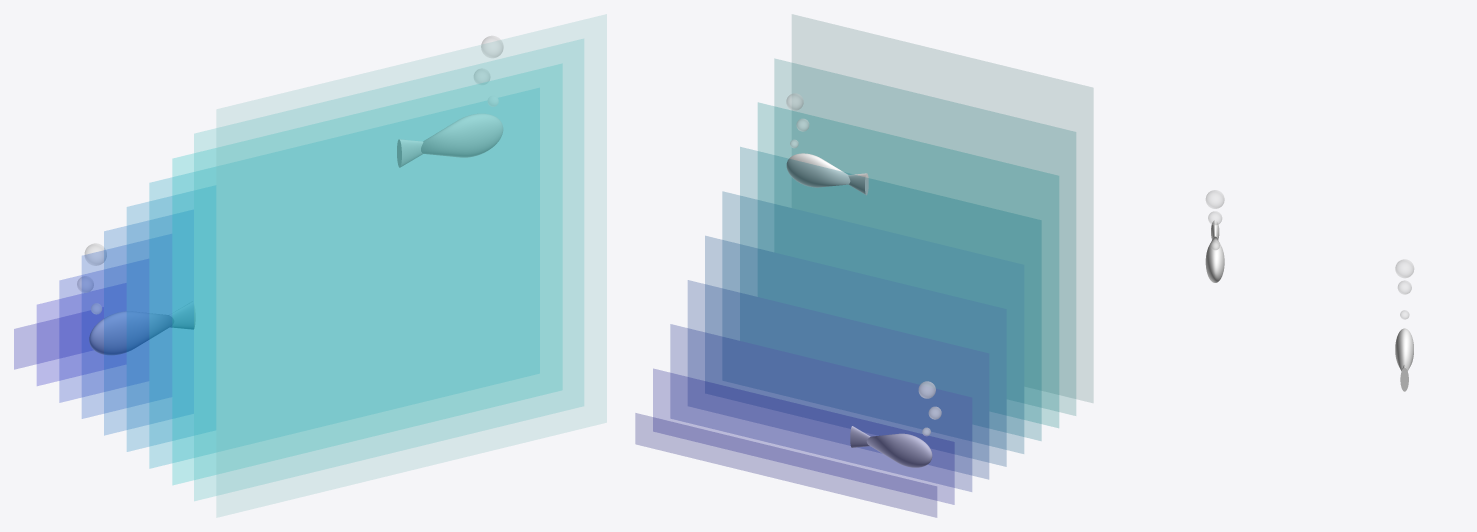
Rendered from asset.glb.
3 renders of one model, left to right at view 1: azimuth 30°, elevation 25°; view 2: azimuth 150°, elevation 25°; view 3: azimuth 270°, elevation 25°, orthographic. The views are drawn at different scales.
Visible parts, largest first — view 1: 平面 2, 平面 3, 平面 4, 平面 5, 平面 6, 平面 7, 平面 8, 平面 9, ドロップ (×2), 平面 10, 平面 11; view 2: 平面 2, 平面 3, 平面 5, 平面 4, 平面 6, 平面 7, 平面 8, 平面 9, 平面 10, 平面 11, ドロップ (×2); view 3: ドロップ (×2).
Part boxes in pixels (x1,y1,x2,y2): 平面 2: (216,14,606,517); 平面 3: (194,39,583,500); 平面 4: (172,148,216,484); 平面 5: (149,172,193,468); 平面 6: (127,196,172,451); 平面 7: (104,221,149,435); 平面 8: (82,245,126,418); 平面 9: (59,270,103,402); ドロップ (×2): (89,114,502,354); 平面 10: (37,294,81,385); 平面 11: (14,318,59,369); 平面 2: (792,14,1093,402); 平面 3: (774,59,1075,415); 平面 5: (740,147,1041,440); 平面 4: (758,102,1058,427); 平面 6: (722,192,1023,453); 平面 7: (705,236,1006,466); 平面 8: (688,280,988,479); 平面 9: (670,324,971,491); 平面 10: (653,369,954,504); 平面 11: (635,413,936,517); ドロップ (×2): (786,153,932,467); ドロップ (×2): (1205,236,1413,370).
Bounding box in the file's own units: 0.2 × 0.2 × 0.1796.
